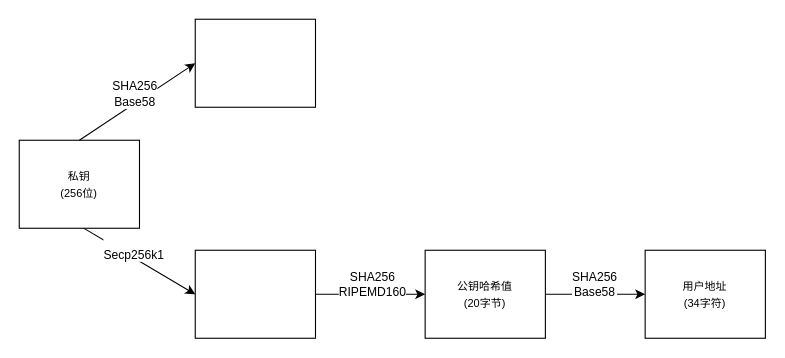
Some shapes in this 785 by 358 pixel diagram are drawn without their labels. Each missing label, with the box of its shape:
WIF私钥 (52字节): (194, 18, 315, 107)
公钥 (65字节): (194, 249, 315, 338)
